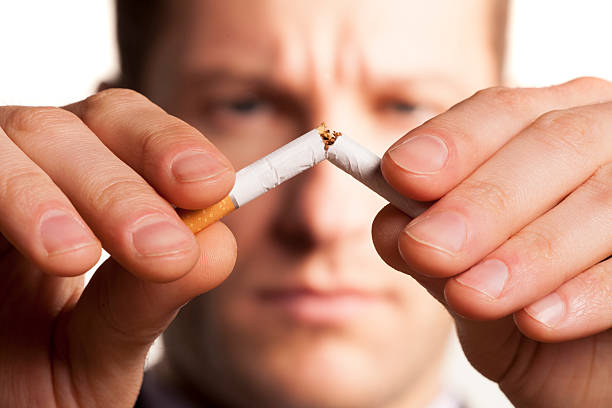cigarette: (181, 123, 332, 238), (324, 130, 437, 219)
